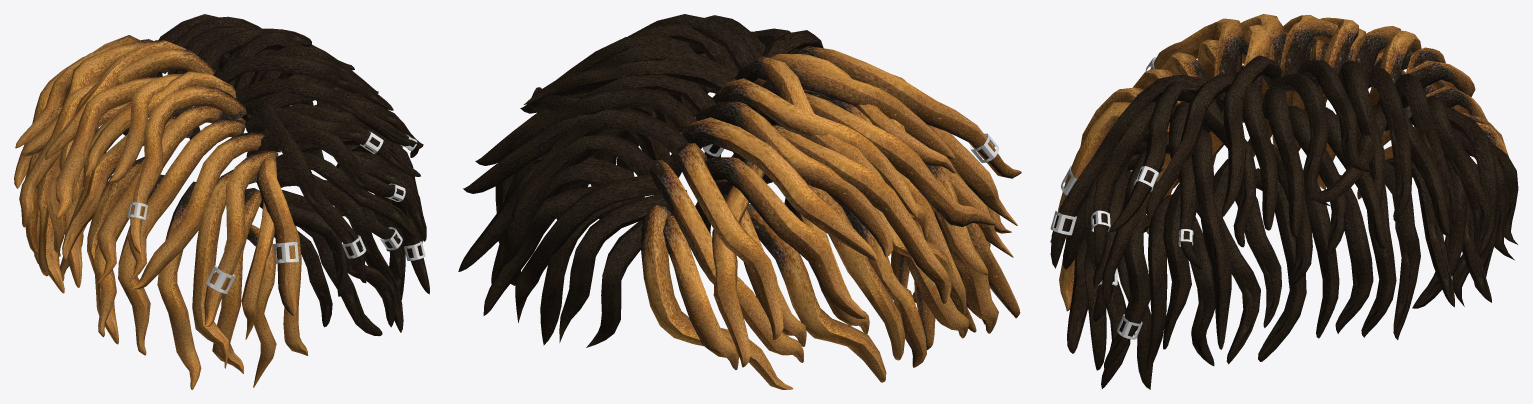
Rendered from male-braids.glb.
3 views of the same model, side by side, from view 1: azimuth 30°, elevation 25°; view 2: azimuth 150°, elevation 25°; view 3: azimuth 270°, elevation 25° (orthographic). The views are drawn at different scales.
Visible parts, largest first — view 1: Mesh_0017_Tex_0008_0.dds_0; view 2: Mesh_0017_Tex_0008_0.dds_0; view 3: Mesh_0017_Tex_0008_0.dds_0.
Boxes of the visible parts, x1,y1,x2,y2 form: Mesh_0017_Tex_0008_0.dds_0: (14,14,429,389); Mesh_0017_Tex_0008_0.dds_0: (458,14,1021,389); Mesh_0017_Tex_0008_0.dds_0: (1050,14,1518,389).
Bounding box in the file's own units: 0.9786 × 0.6973 × 0.965.
Materials: 1 (1 with a texture image).
